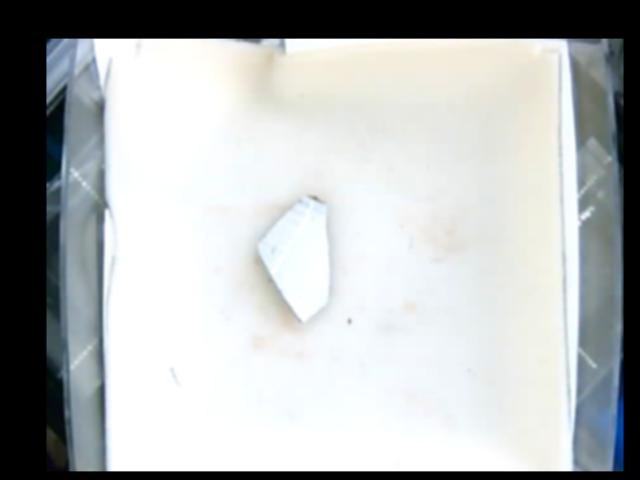China: (256, 193, 332, 322)
